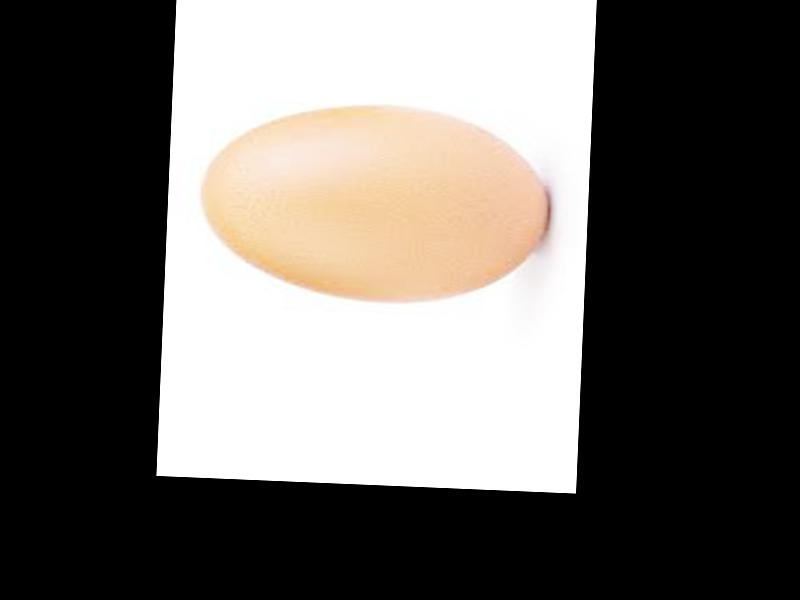Eggs: (196, 100, 552, 307)
